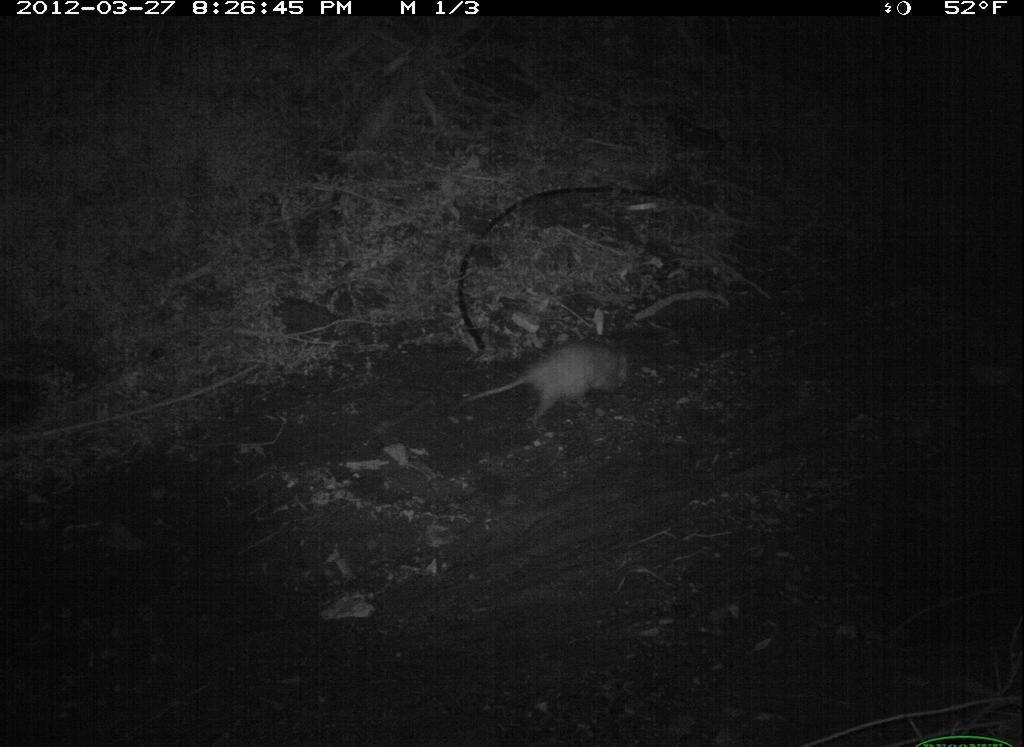opossum: (456, 329, 644, 431)
